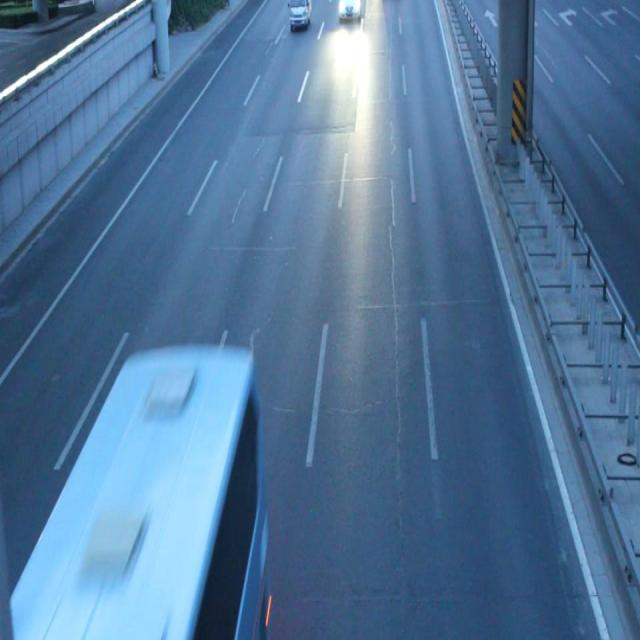car: (288, 1, 310, 31), (338, 1, 363, 25)
van: (1, 354, 264, 640)
